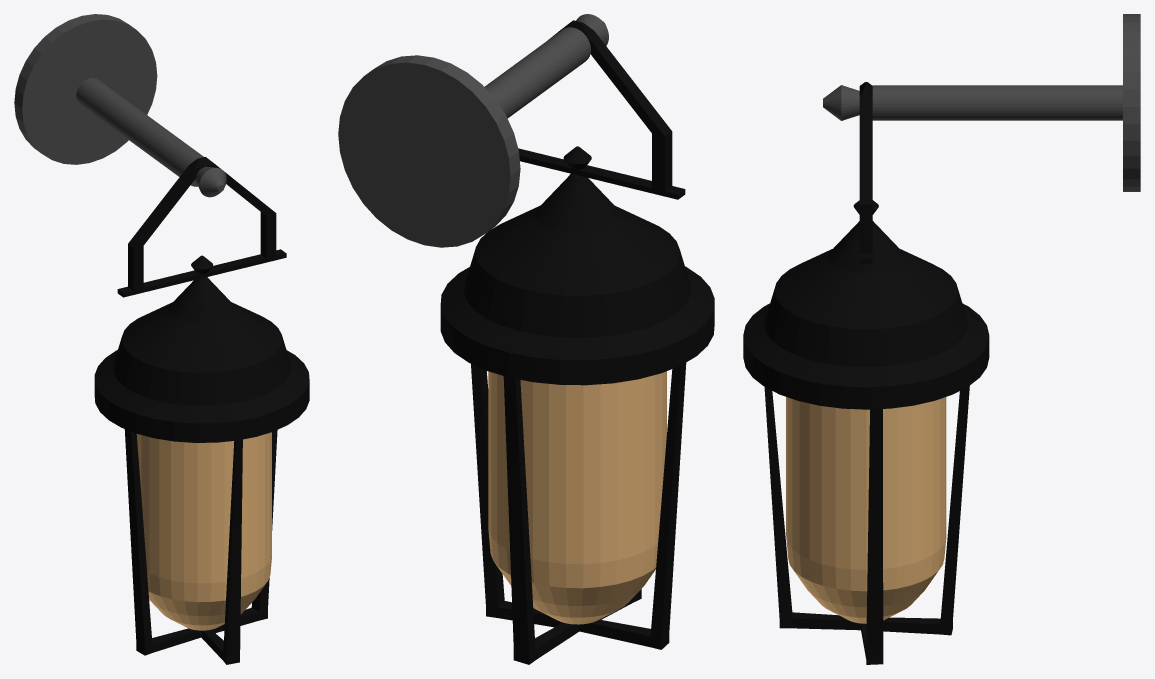
The model's file is wallLight.fbx.
The picture shows the model from 3 angles, left to right: view 1: azimuth 30°, elevation 25°; view 2: azimuth 150°, elevation 25°; view 3: azimuth 270°, elevation 25°; orthographic projection. The views are drawn at different scales.
Parts seen in each view (by area): view 1: struc2, light, base, struc; view 2: struc2, light, base, struc; view 3: struc2, light, base, struc.
Part boxes in pixels (x1,y1,x2,y2): struc2: (94,277,309,664); light: (136,432,271,630); base: (14,14,226,197); struc: (117,157,286,297); struc2: (440,173,714,664); light: (488,371,666,624); base: (338,14,608,247); struc: (518,20,685,199); struc2: (743,221,989,664); light: (786,397,946,623); base: (823,14,1140,191); struc: (859,82,872,263).
Size of the model in its own units: 91.47 by 249 by 148.
